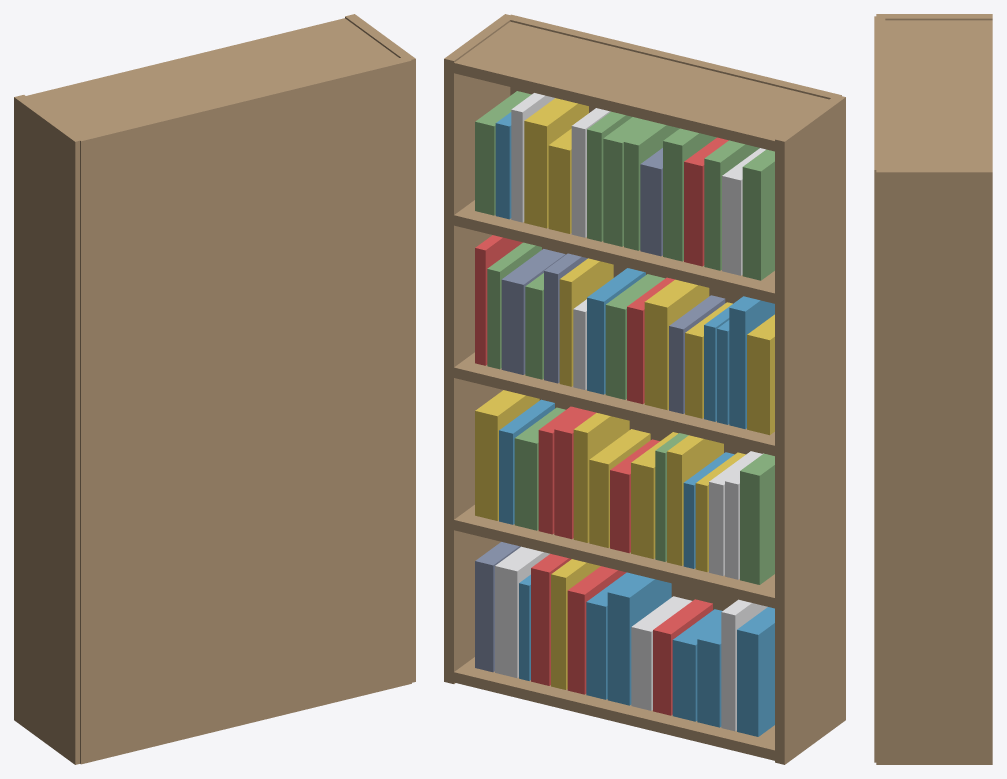
The model's file is Bookshelf.fbx.
3 renders of one model, left to right at view 1: azimuth 30°, elevation 25°; view 2: azimuth 150°, elevation 25°; view 3: azimuth 270°, elevation 25°, orthographic. The views are drawn at different scales.
Parts seen in each view (by area): view 1: Bookshelf_Mesh; view 2: Bookshelf_Mesh; view 3: Bookshelf_Mesh.
Part boxes in pixels (x1,y1,x2,y2): Bookshelf_Mesh: (14, 14, 415, 764); Bookshelf_Mesh: (444, 14, 845, 764); Bookshelf_Mesh: (874, 14, 992, 764).
Size of the model in its own units: 1.03 by 0.325 by 1.8.
